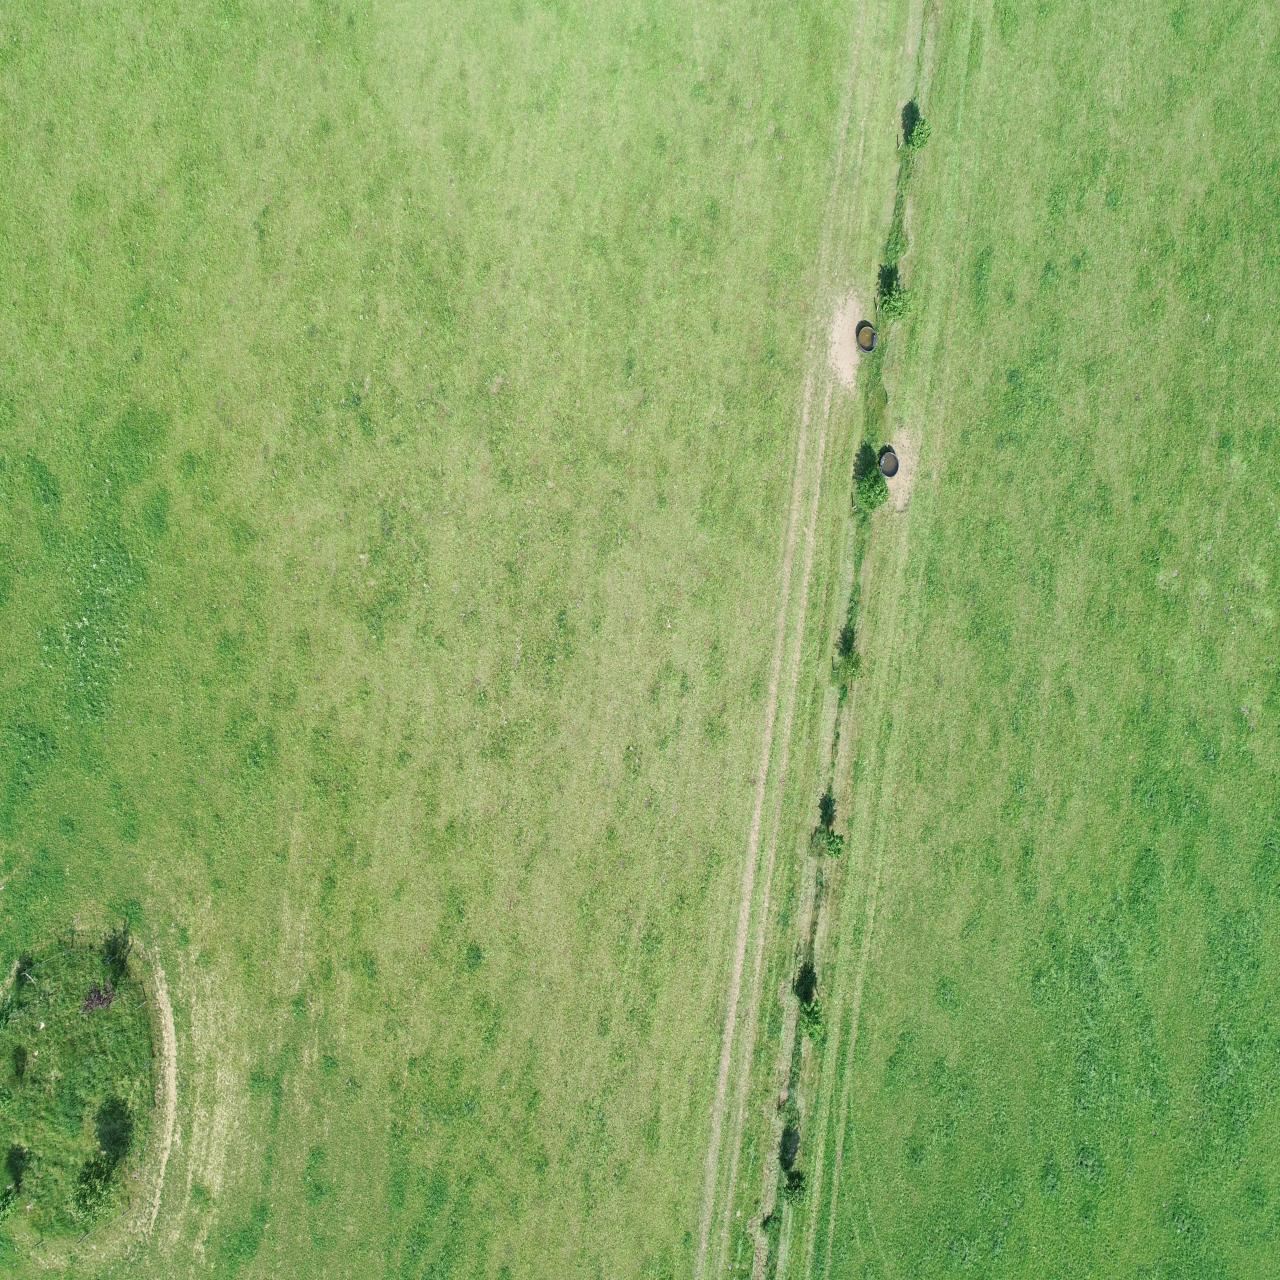cow: (220, 68, 260, 164), (82, 663, 150, 710), (90, 809, 150, 858), (0, 723, 50, 775), (857, 883, 920, 922), (69, 1012, 138, 1048), (64, 372, 116, 420), (0, 342, 59, 384), (101, 301, 143, 359), (188, 271, 246, 307), (141, 893, 199, 928), (88, 256, 134, 300), (128, 130, 171, 173)
